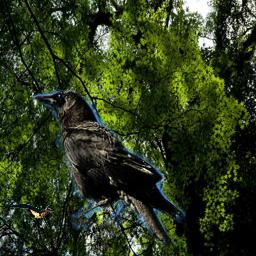Crow: (26, 88, 186, 250)
Swallow: (8, 201, 64, 230)
